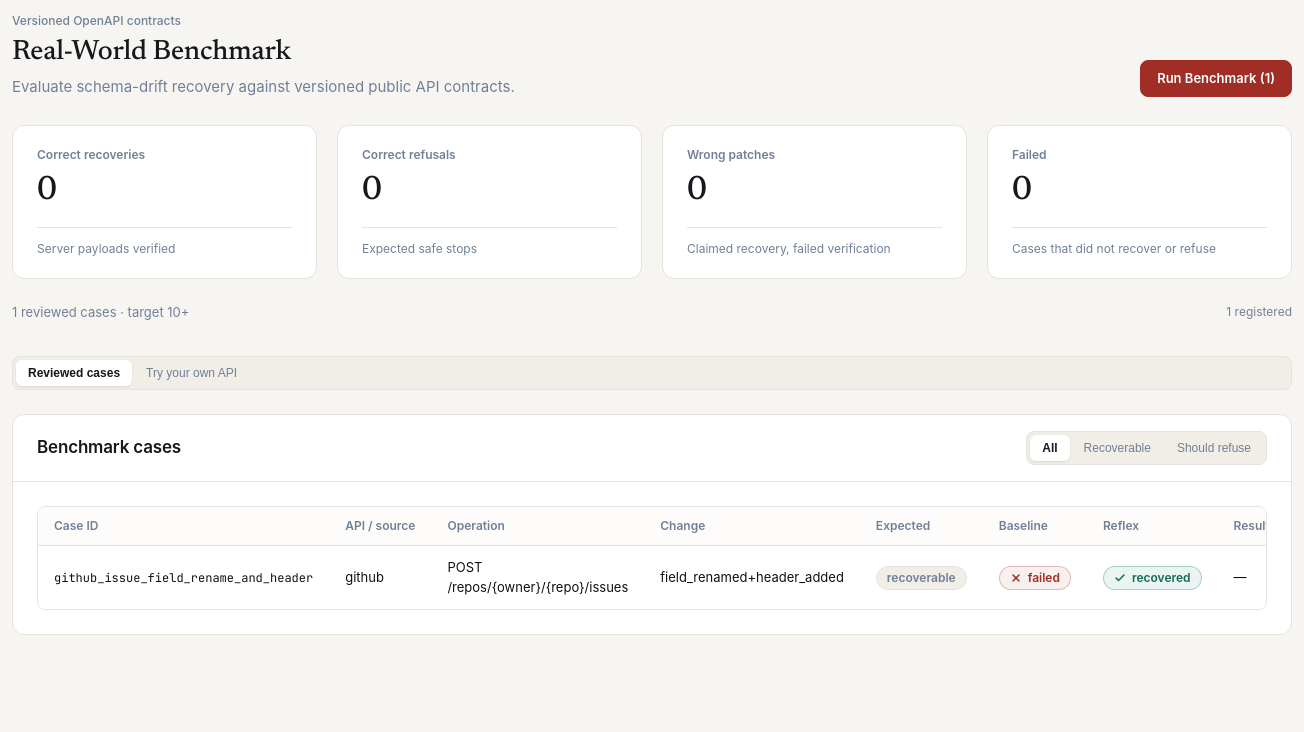
Test: RealWorldPage > Run Benchmark › shows an error banner when starting the run fails
Click the button "Run Benchmark (1)" at [1216, 78], box [1140,60,1292,97]
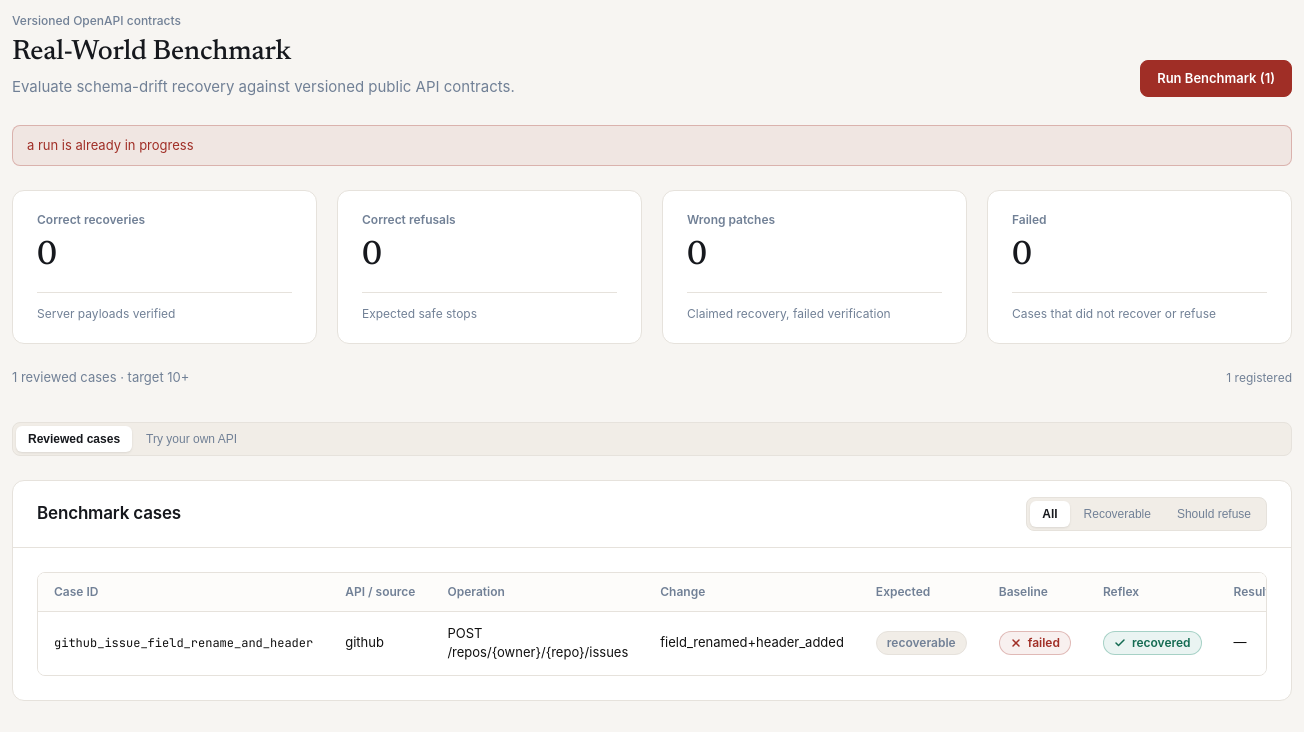
Expected: the text "a run is already in progress" is shown, [12,125,1292,166]
